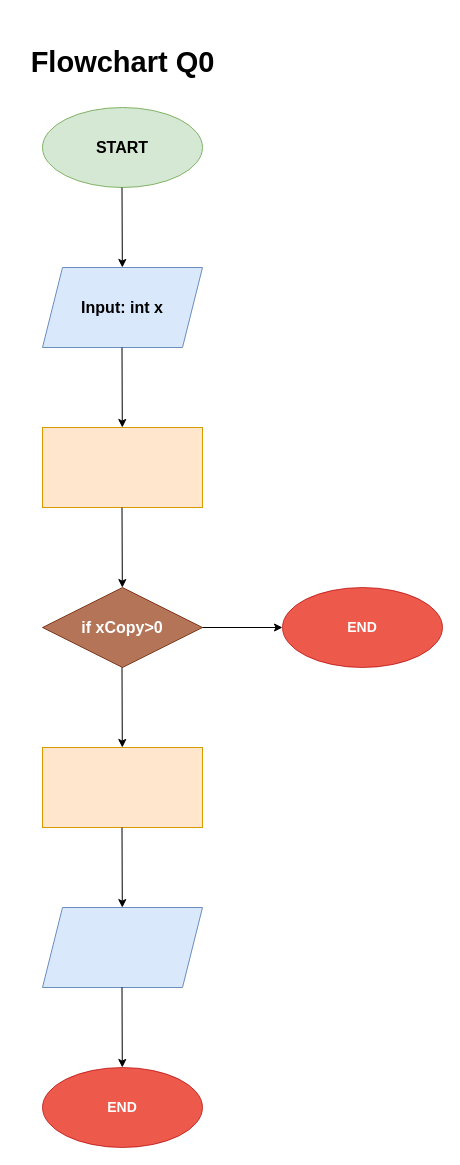
Image size: 460x1165. Some labels were removed from this diagram. The shapes that lost their labels are listed below. From the top down, each one's box as (x1, y1, x2, y2) in pixels, then its label:
(42, 426, 202, 508): Initialize: int xCopy
(42, 746, 202, 828): r = xCopy%10; while (xCopy>0){ sum = sum + r*r}
(42, 906, 202, 988): print sum
